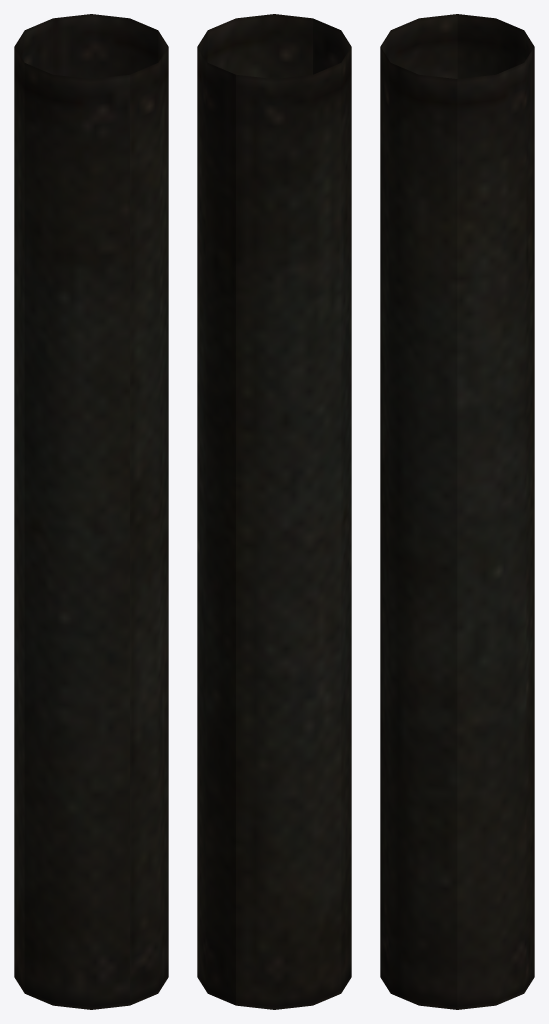
Rendered from column_4.obj.
3 renders of one model, left to right at view 1: azimuth 30°, elevation 25°; view 2: azimuth 150°, elevation 25°; view 3: azimuth 270°, elevation 25°, orthographic.
Visible parts, largest first — view 1: column_4; view 2: column_4; view 3: column_4.
Boxes of the visible parts, x1,y1,x2,y2 form: column_4: (14,14,168,1009); column_4: (197,14,351,1009); column_4: (380,14,534,1009).
Bounding box in the file's own units: 0.3 × 2 × 0.3.
